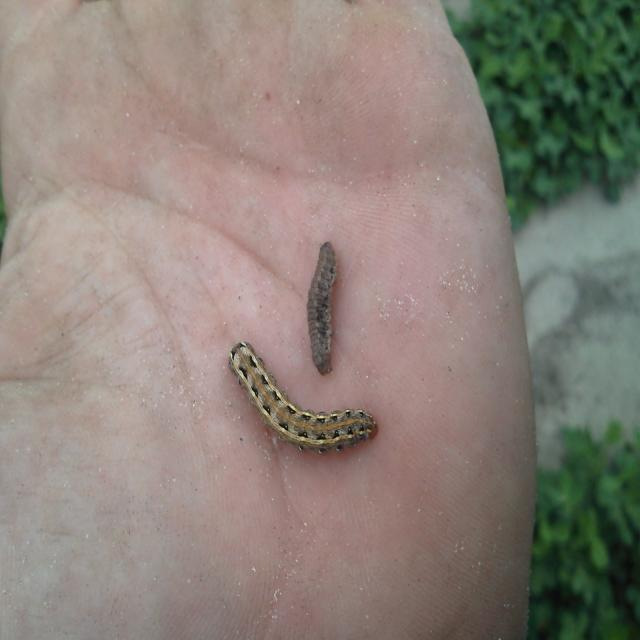worm: (228, 340, 378, 455), (307, 241, 339, 376)
